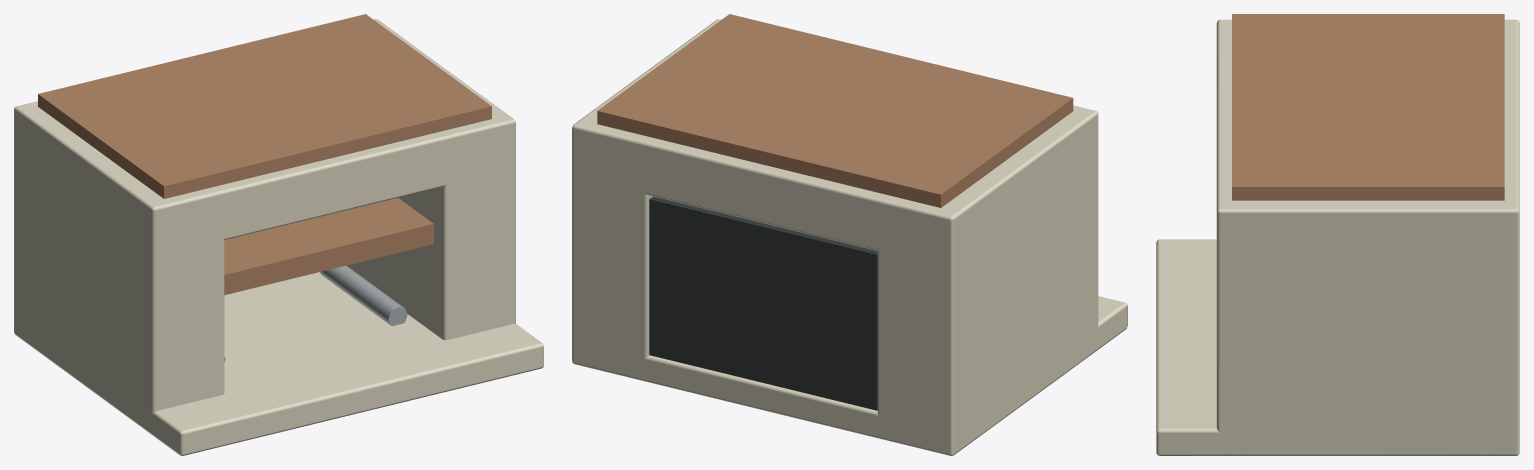
File: prehistoric-survivor-settlement-communal-fire-hearth-218c42d3__23206.glb
The picture shows the model from 3 angles, left to right: view 1: azimuth 30°, elevation 25°; view 2: azimuth 150°, elevation 25°; view 3: azimuth 270°, elevation 25°; orthographic projection. The views are drawn at different scales.
Visible parts, largest first — view 1: communal-fire-hearth; view 2: communal-fire-hearth; view 3: communal-fire-hearth.
Part boxes in pixels (<box>): communal-fire-hearth: <box>14,14,543,455</box>; communal-fire-hearth: <box>572,14,1127,455</box>; communal-fire-hearth: <box>1156,14,1519,455</box>.
Size of the model in its own units: 1.5 by 0.9501 by 1.2.
